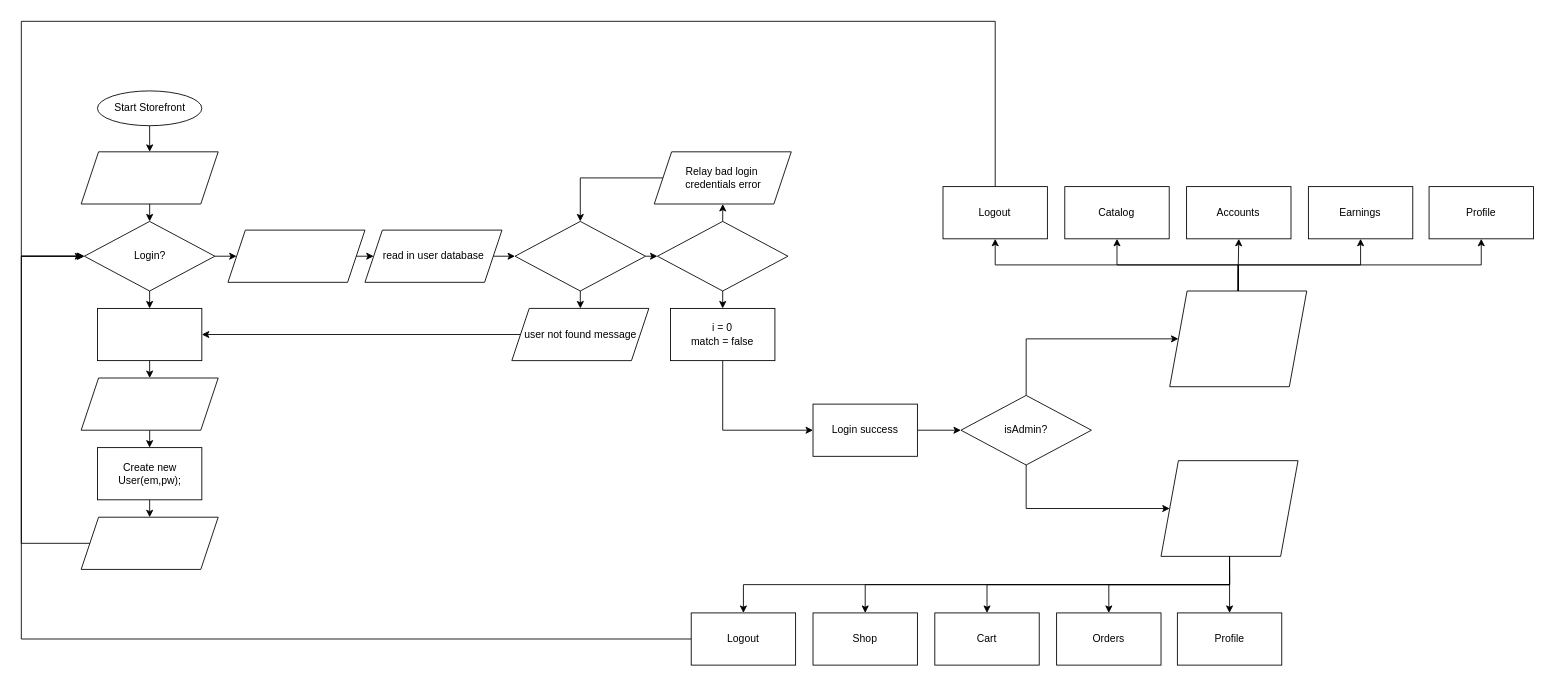
This 1549x680 diagram has some shape labels left out. The shapes that lost their labels are listed below. From the top down, each one's box as (x1, y1, x2, y2) in pixels, then its label:
(80, 151, 218, 204): Display Login Menu (login or register)
(227, 229, 365, 282): Get user email
(514, 221, 646, 291): while email != user
(657, 221, 788, 291): password is valid
(97, 308, 202, 361): Begin new user registration
(1169, 290, 1307, 387): Display Admin Menu
(80, 377, 218, 430): Get user email & password
(1160, 460, 1298, 556): Display User Menu
(80, 516, 218, 569): store in user database
